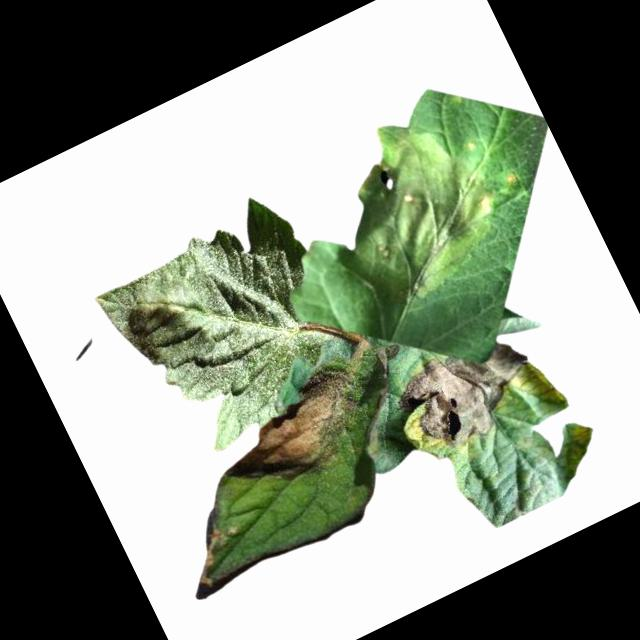Late_blight: (301, 95, 520, 319), (201, 356, 386, 510), (382, 319, 552, 468), (174, 505, 254, 591)
